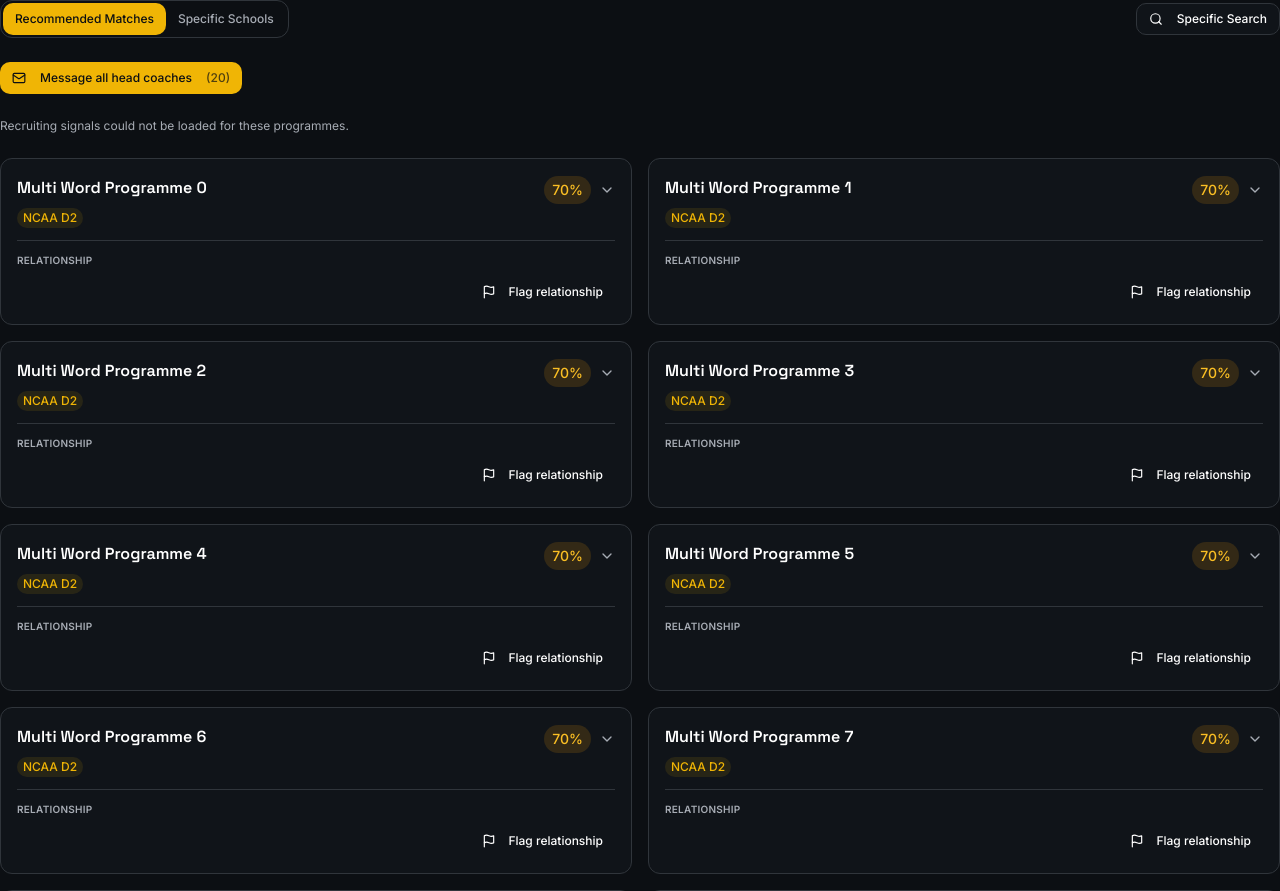
Test: a failed page request is said once › does not let a failure read as a fact about any programme
What coordinates should you click on to do the following:
click the button "Multi Word Programme 0 NCAA D2 70%"
I would click on:
 (112, 188)
Its box is [17, 176, 615, 228].
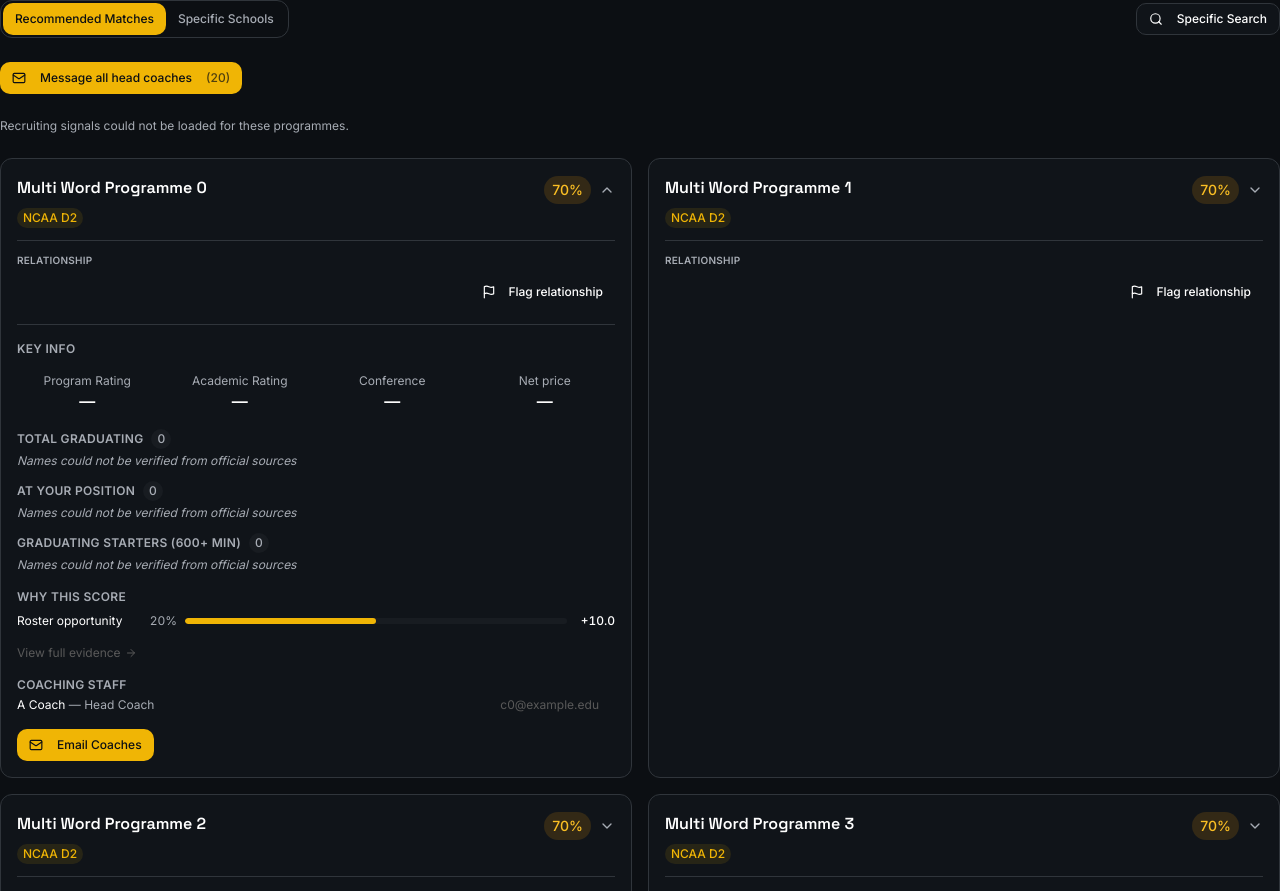
Result: the text "Why this score" is shown at [17, 589, 126, 604]
